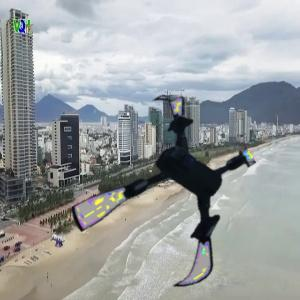drone: (74, 103, 262, 291)
